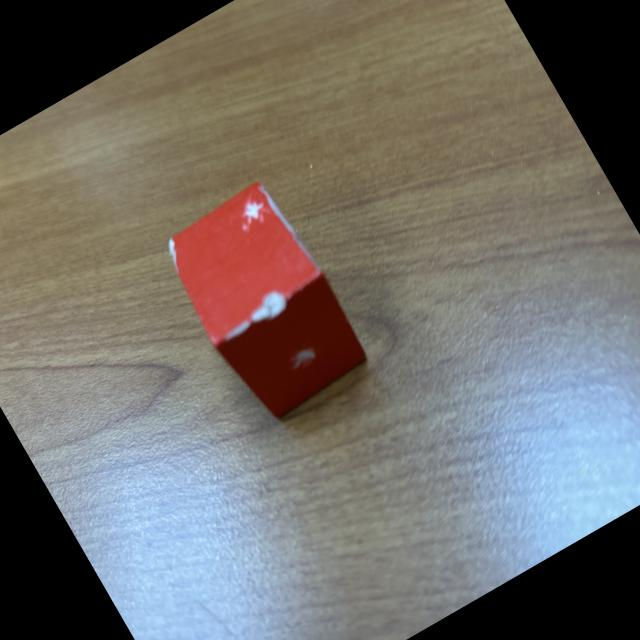broken: (152, 174, 380, 430)
